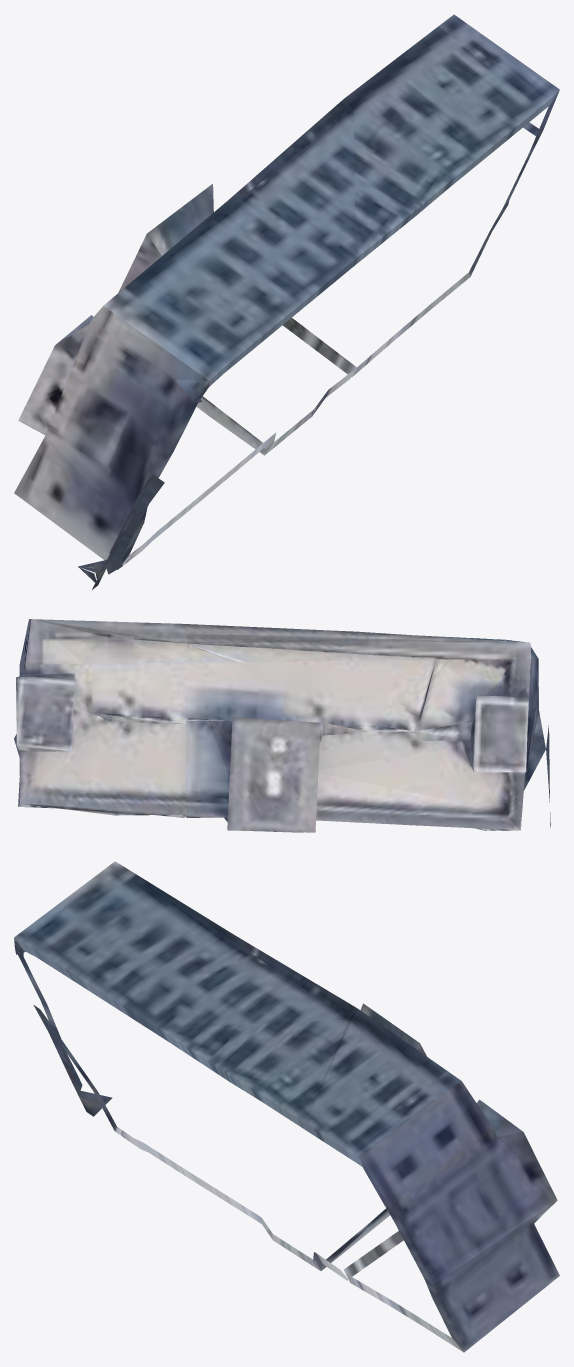
The picture shows the model from 3 angles, top to bottom: view 1: azimuth 30°, elevation 25°; view 2: azimuth 150°, elevation 25°; view 3: azimuth 270°, elevation 25°; orthographic projection. The views are drawn at different scales.
Bounding box in the file's own units: 48.31 × 22.42 × 37.41.
1 material, 1 textured.
